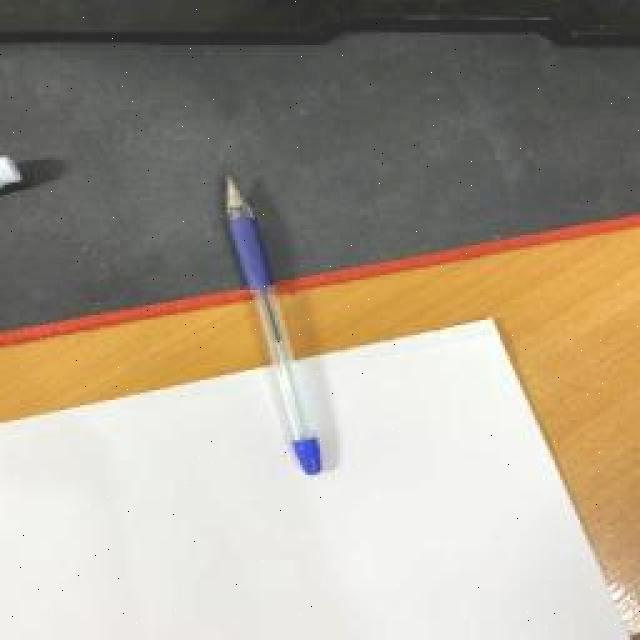pen: (220, 175, 325, 478)
